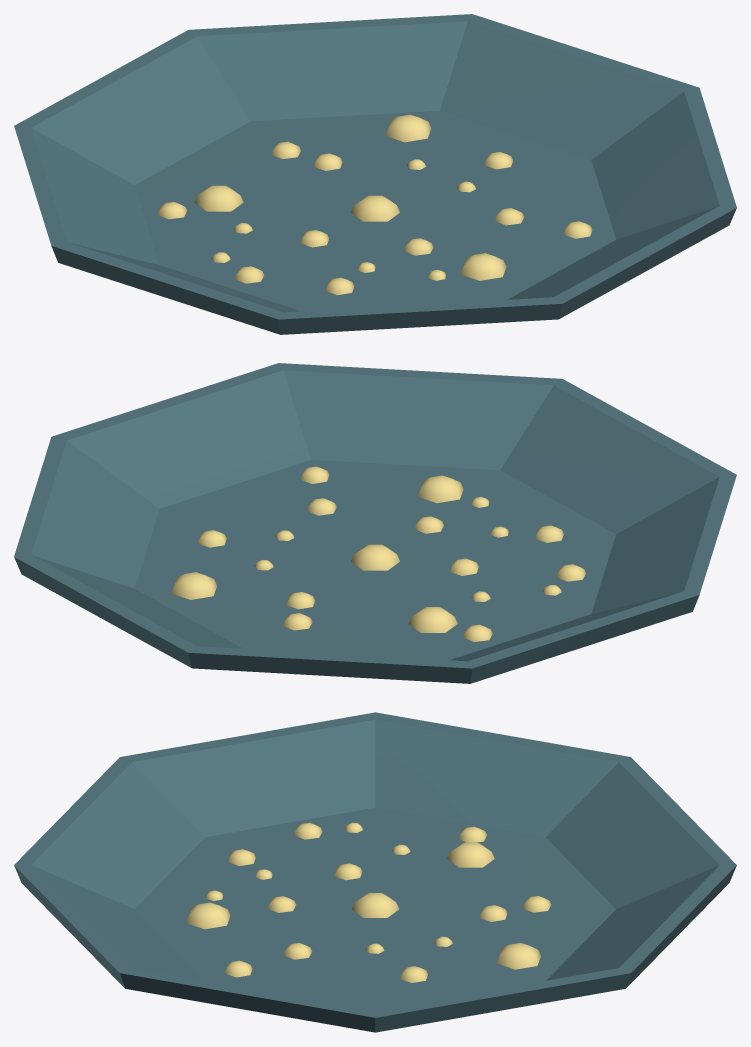
The model's file is plate-dirty2.glb.
3 views of the same model, one above another, from view 1: azimuth 30°, elevation 25°; view 2: azimuth 150°, elevation 25°; view 3: azimuth 270°, elevation 25° (orthographic). The views are drawn at different scales.
Parts seen in each view (by area): view 1: PlateDirty2.001; view 2: PlateDirty2.001; view 3: PlateDirty2.001.
Boxes of the visible parts, x1,y1,x2,y2 form: PlateDirty2.001: (14,14,736,334); PlateDirty2.001: (14,363,736,683); PlateDirty2.001: (14,712,736,1032).
Bounding box in the file's own units: 0.3027 × 0.0269 × 0.3027.
Materials: 1 (1 with a texture image).
